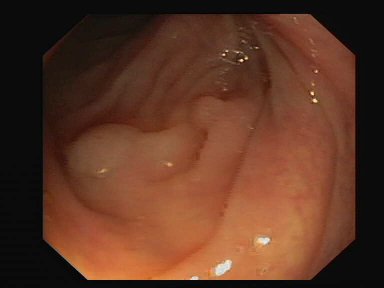polyp: (59, 98, 176, 207), (188, 82, 227, 130)
